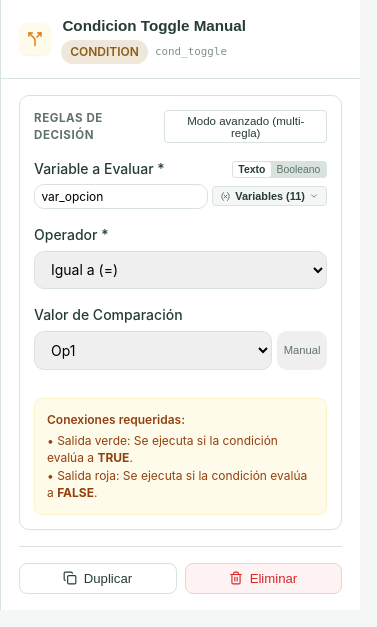
PropertiesPanel › Boolean Variables & Conditions UX ergonomics › allows toggling between choices dropdown and manual custom text input
This screenshot has width=377, height=627.
Expected: the dropdown with test id "condition-choice-value-select" is shown, x1=34 y1=331 x2=272 y2=370
Note: Click "Manual" button to switch to text input
Step 1. Click the button titled "Escribir valor manual" → (302,350), box x1=277 y1=331 x2=327 y2=370
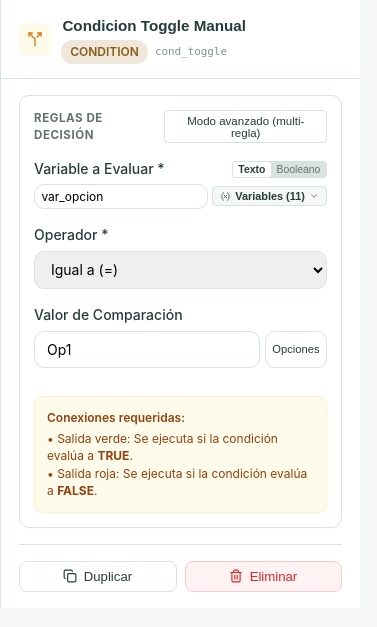
Result: the field with test id "condition-value-input" is shown at x1=34 y1=331 x2=260 y2=368
Note: Click "Opciones" button to switch back to choice dropdown
Step 2. Click the button titled "Volver a opciones de la pregunta" → (296,349), box x1=265 y1=331 x2=327 y2=368
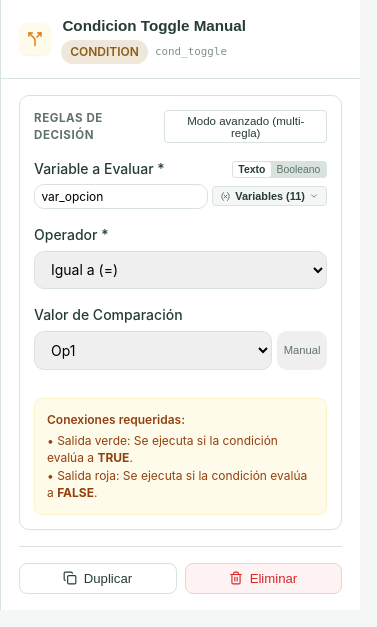
Result: the dropdown with test id "condition-choice-value-select" is shown at x1=34 y1=331 x2=272 y2=370
